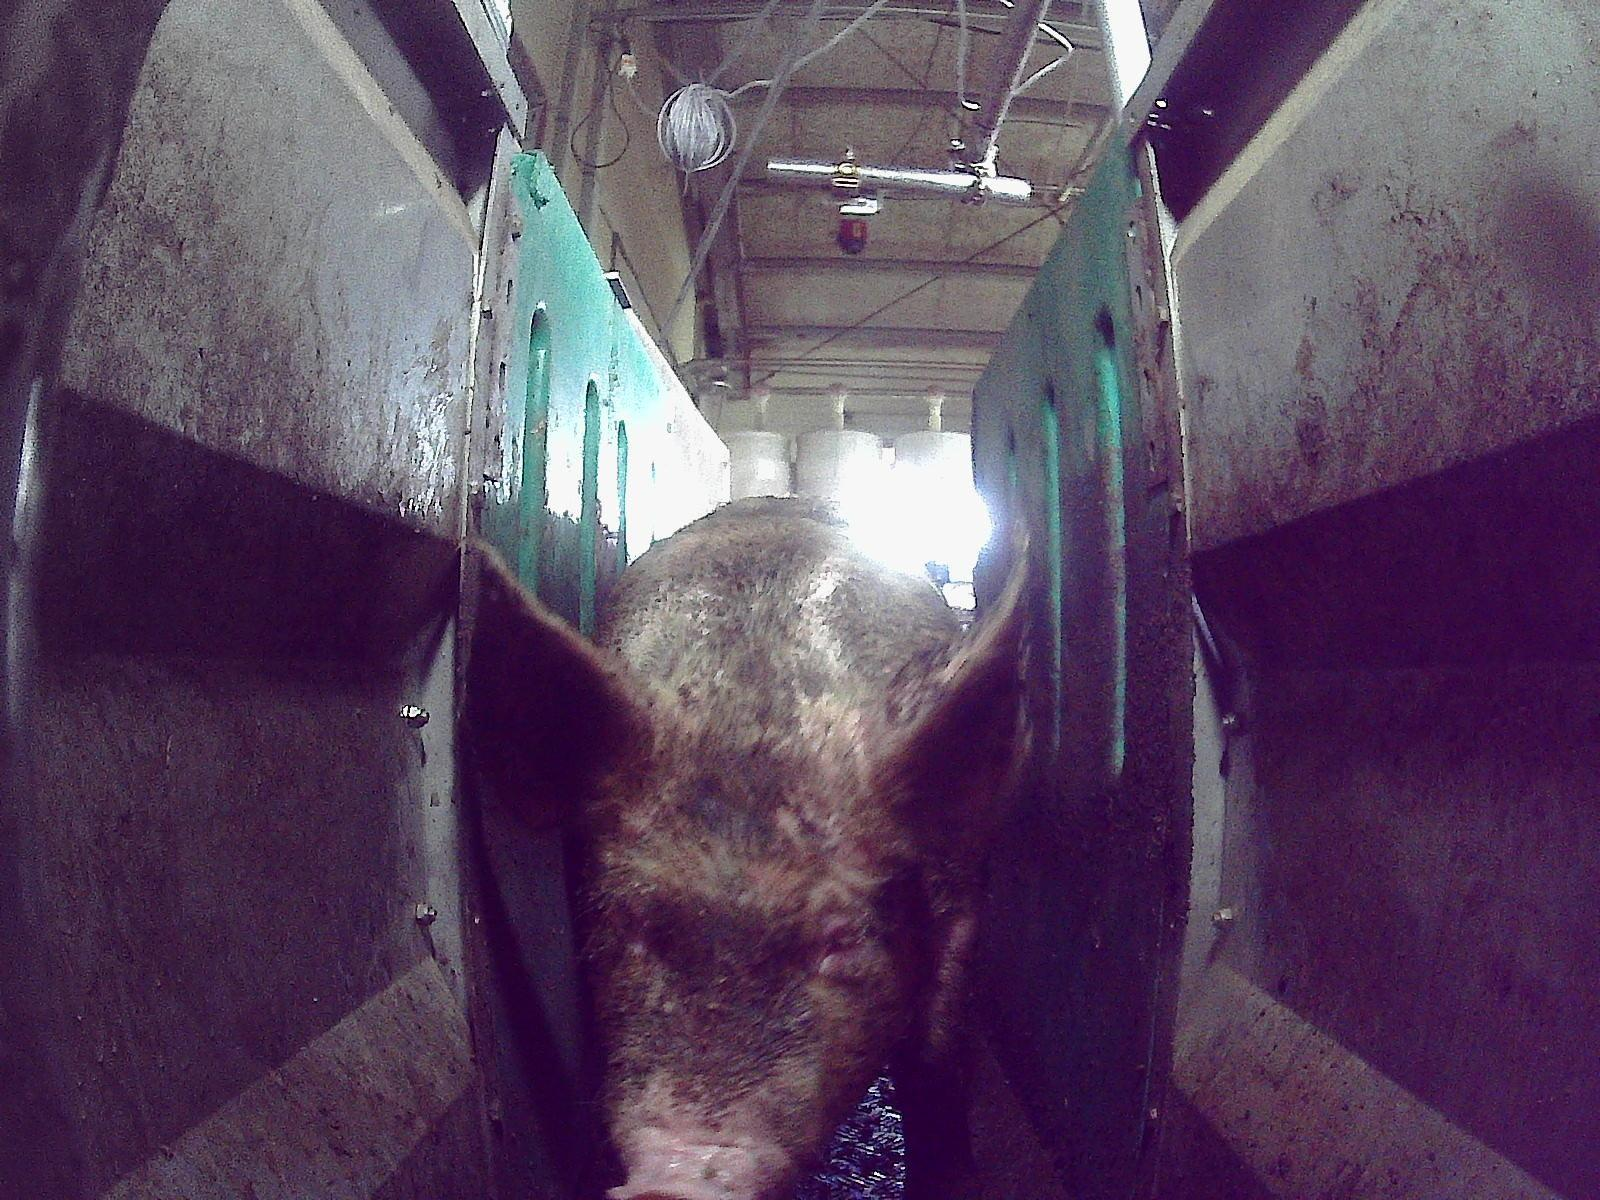Face: (581, 666, 934, 1199)
